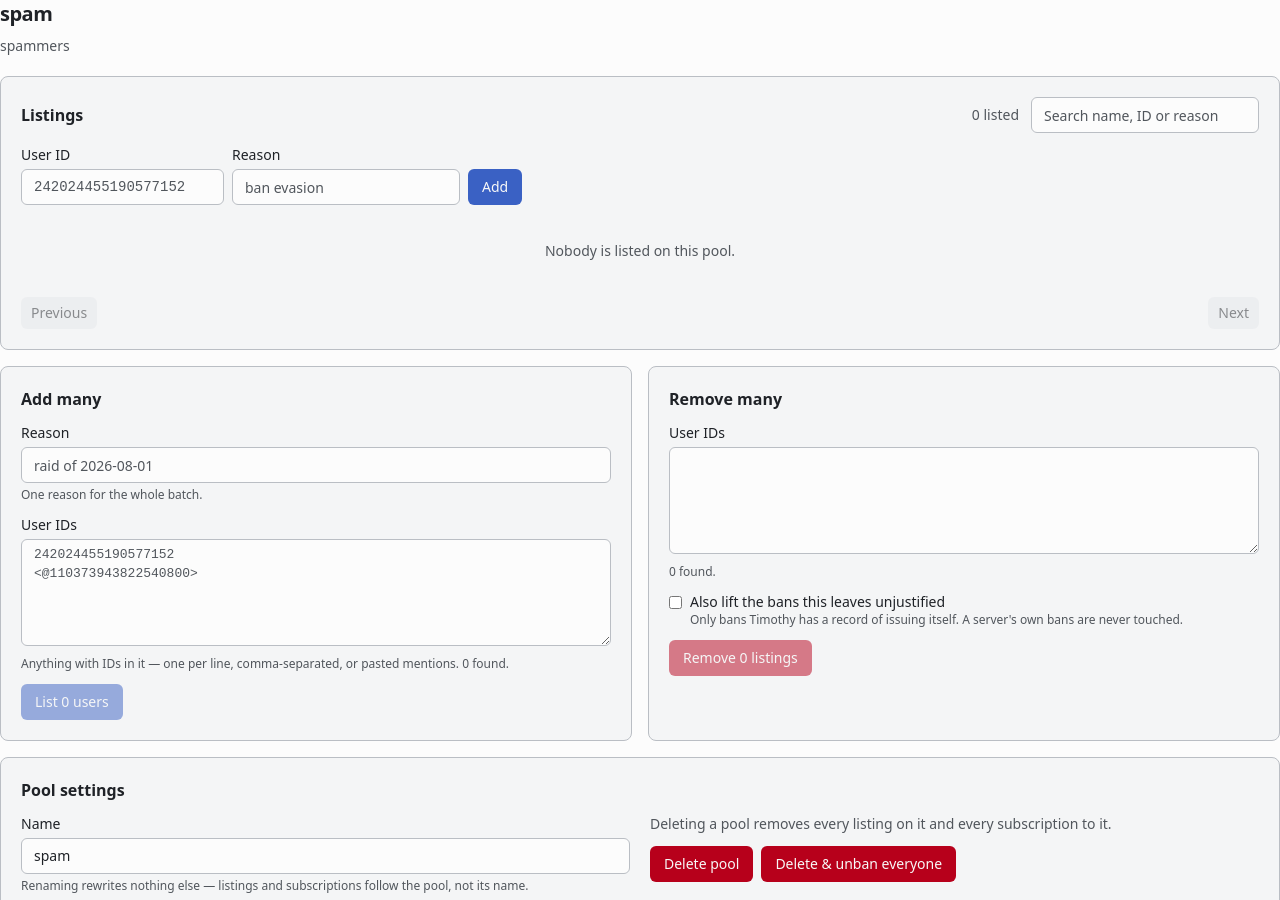
Test: bulk listing › warns that a batch will trip the safety limit
Expected: the text "Nobody is listed on this pool." is shown, top-left (545, 241), bottom-right (735, 260)
Type "raid" into the field labelled "Reason" below "Add many" at [316, 465], box top-left (21, 447), bottom-right (611, 483)
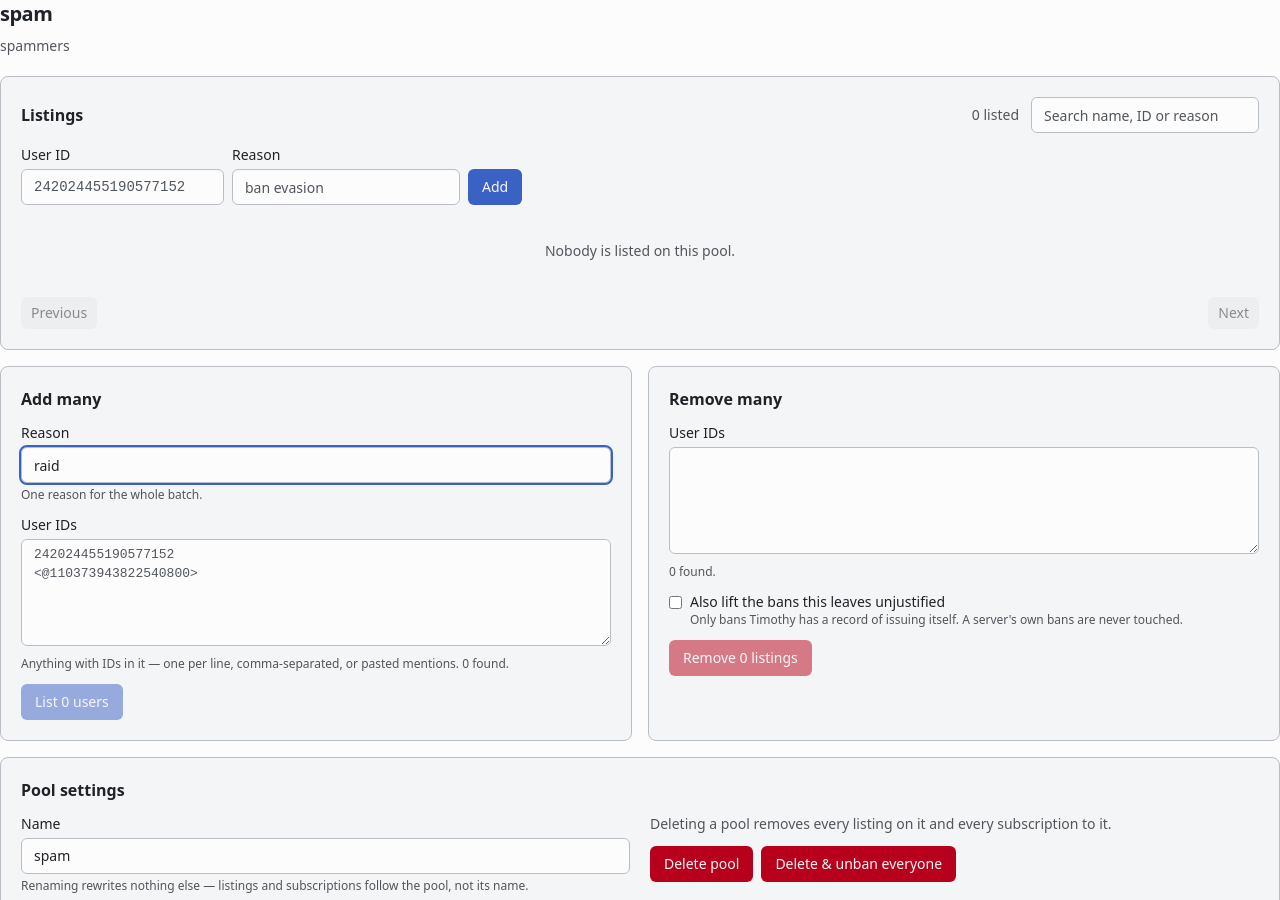
Type "1000 1001" into the text box labelled "User IDs" below "One reason for the whole batch." at [316, 592], box top-left (21, 539), bottom-right (611, 646)
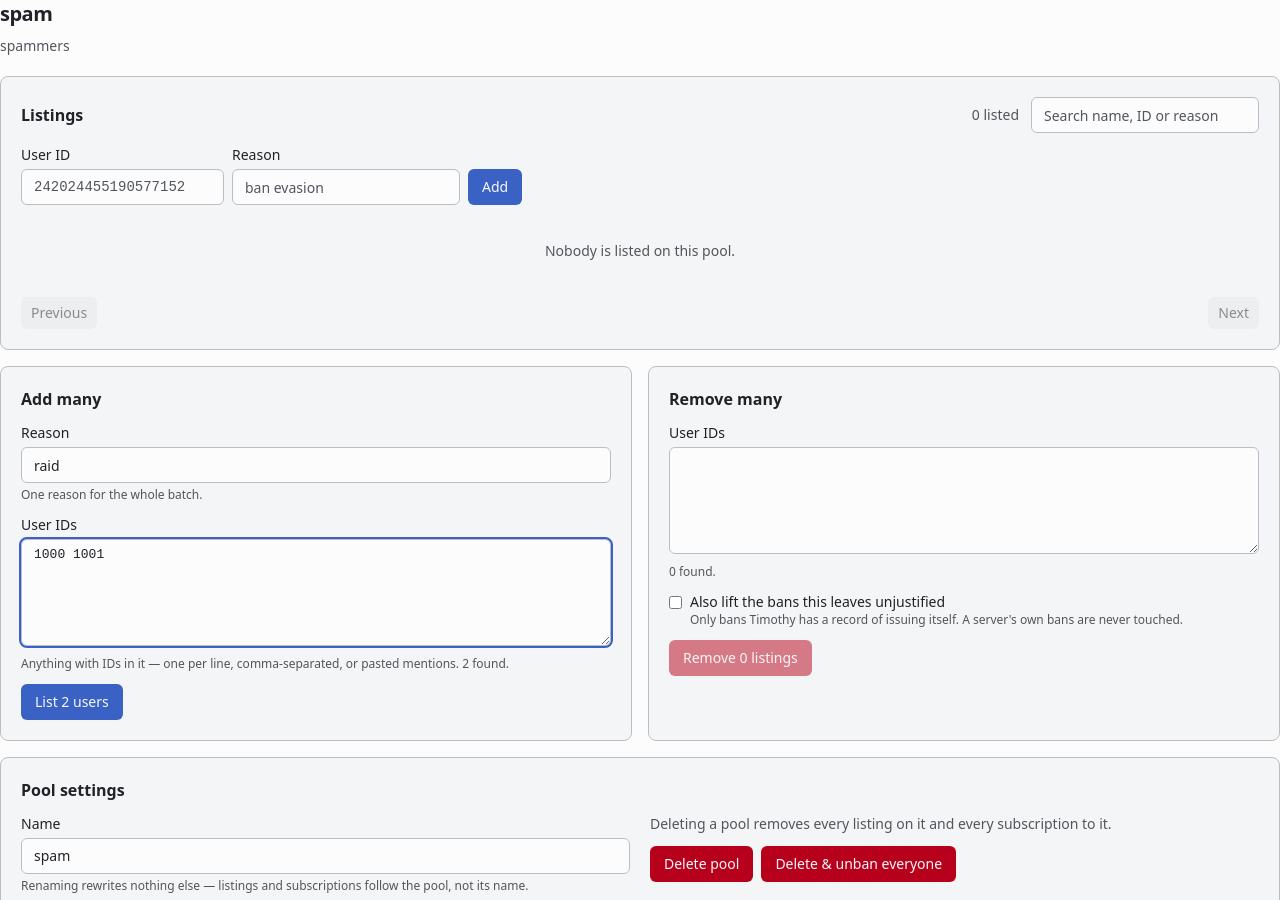
Click the button "List 2 users" at [72, 702], box top-left (21, 684), bottom-right (123, 720)
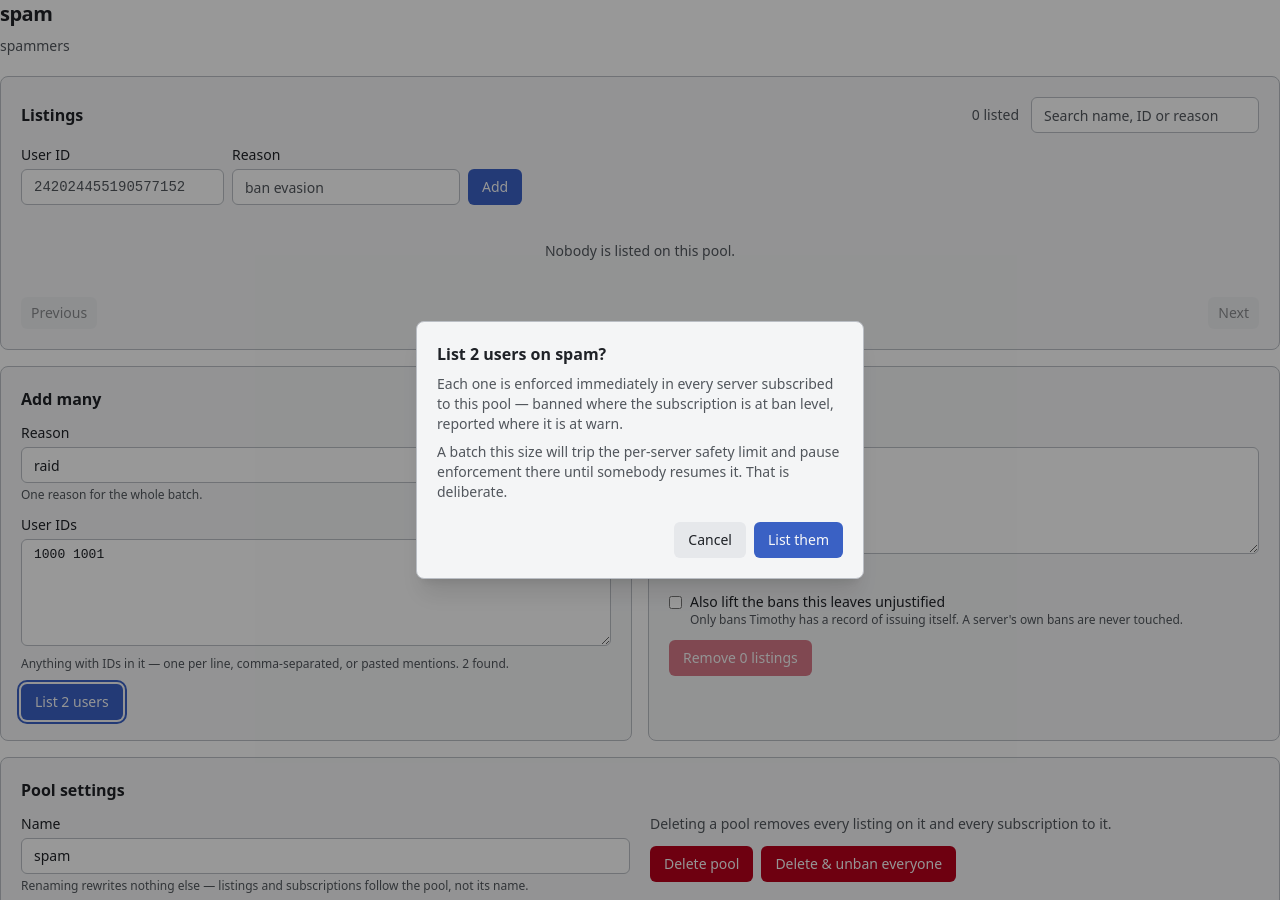
Result: the dialog shows "trip the per-server safety limit" at top-left (437, 442), bottom-right (840, 501)
